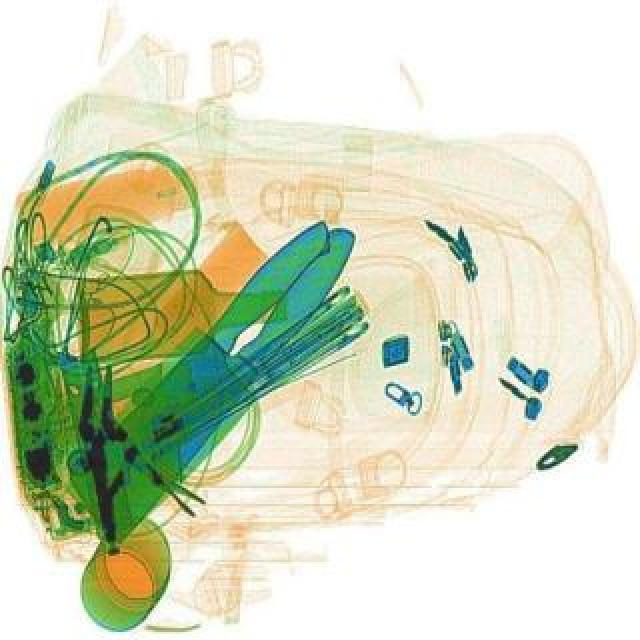knife: (38, 196, 378, 544), (50, 210, 380, 542)
